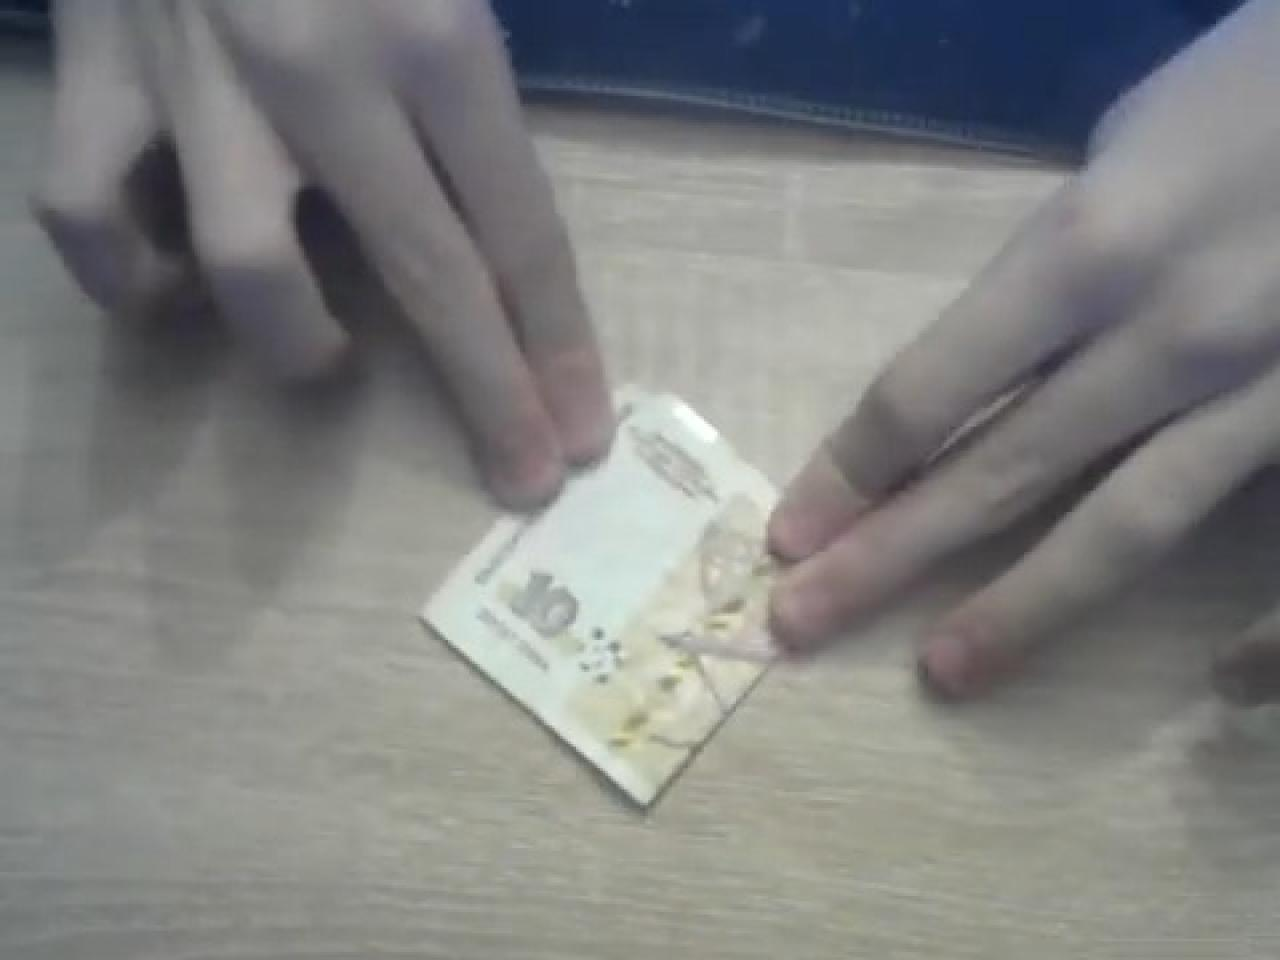10leva: (416, 392, 779, 814)
